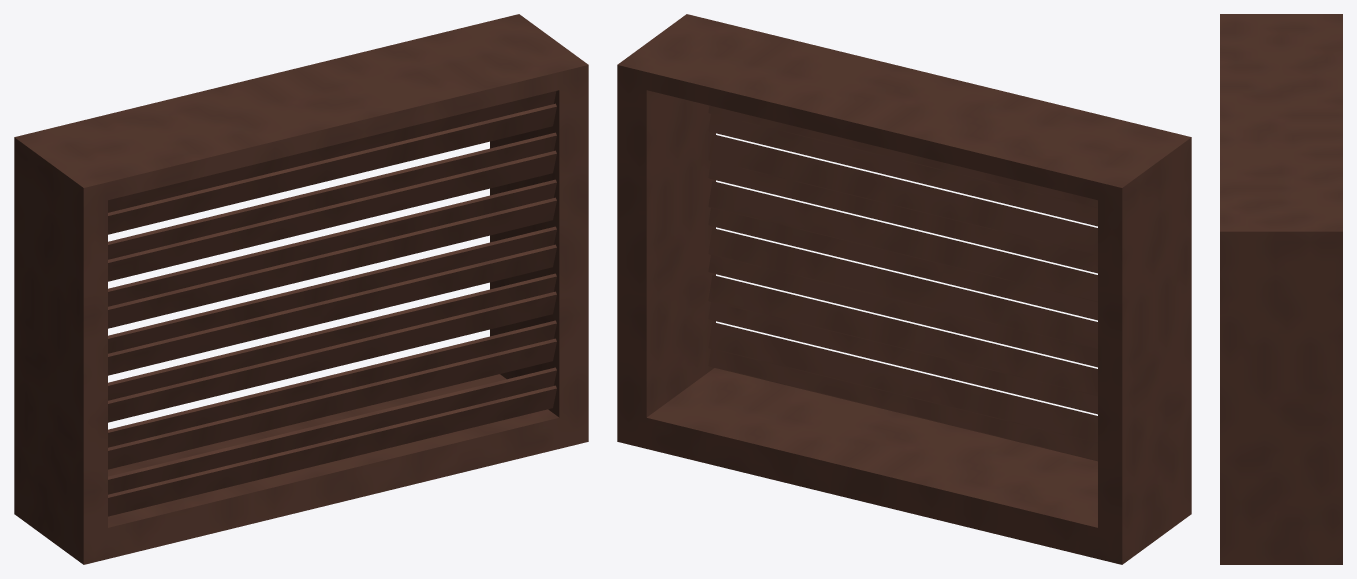
Rendered from Radiator.fbx.
3 renders of one model, left to right at view 1: azimuth 30°, elevation 25°; view 2: azimuth 150°, elevation 25°; view 3: azimuth 270°, elevation 25°, orthographic. The views are drawn at different scales.
Parts seen in each view (by area): view 1: Cube.001; view 2: Cube.001; view 3: Cube.001.
Boxes of the visible parts, box(x1,y1,x2,y2) form: Cube.001: box(14, 14, 588, 564); Cube.001: box(617, 14, 1191, 564); Cube.001: box(1220, 14, 1342, 564).
Bounding box in the file's own units: 198 × 141 × 47.11.
